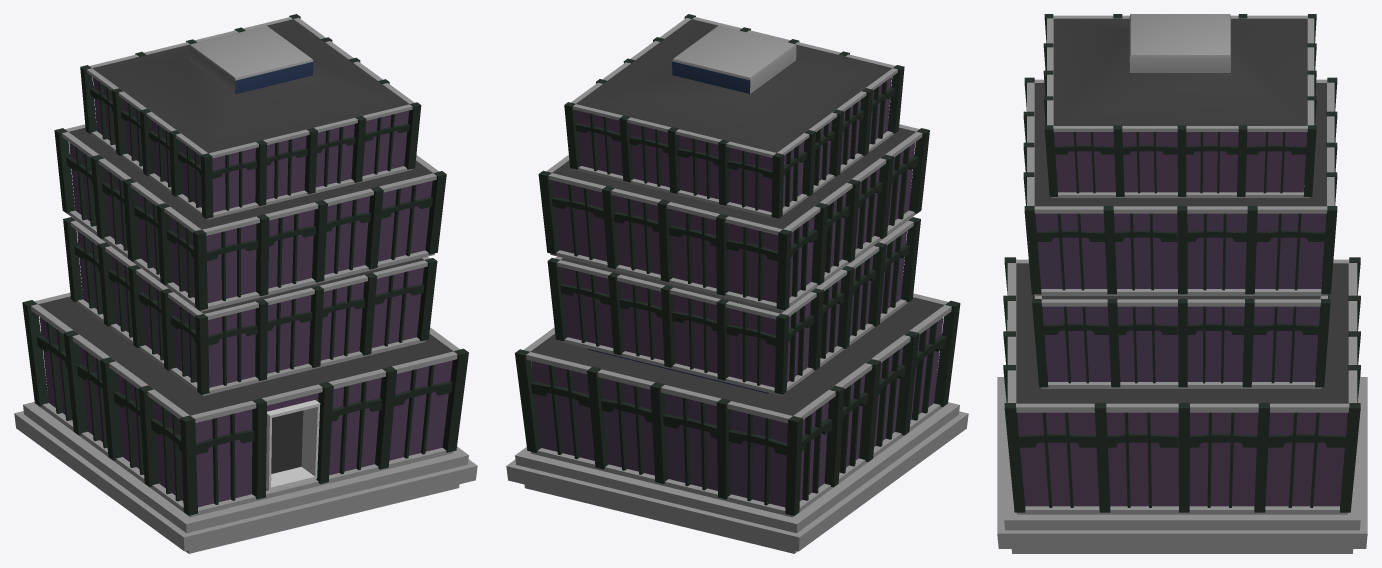
Rendered from Empire  Building small.FBX.
3 views of the same model, side by side, from view 1: azimuth 30°, elevation 25°; view 2: azimuth 150°, elevation 25°; view 3: azimuth 270°, elevation 25° (orthographic). The views are drawn at different scales.
Parts seen in each view (by area): view 1: Empire Building #1; view 2: Empire Building #1; view 3: Empire Building #1.
Part boxes in pixels (<box>): Empire Building #1: <box>14,14,477,553</box>; Empire Building #1: <box>506,14,968,553</box>; Empire Building #1: <box>997,14,1367,553</box>.
Bounding box in the file's own units: 22.26 × 29.87 × 22.26.
